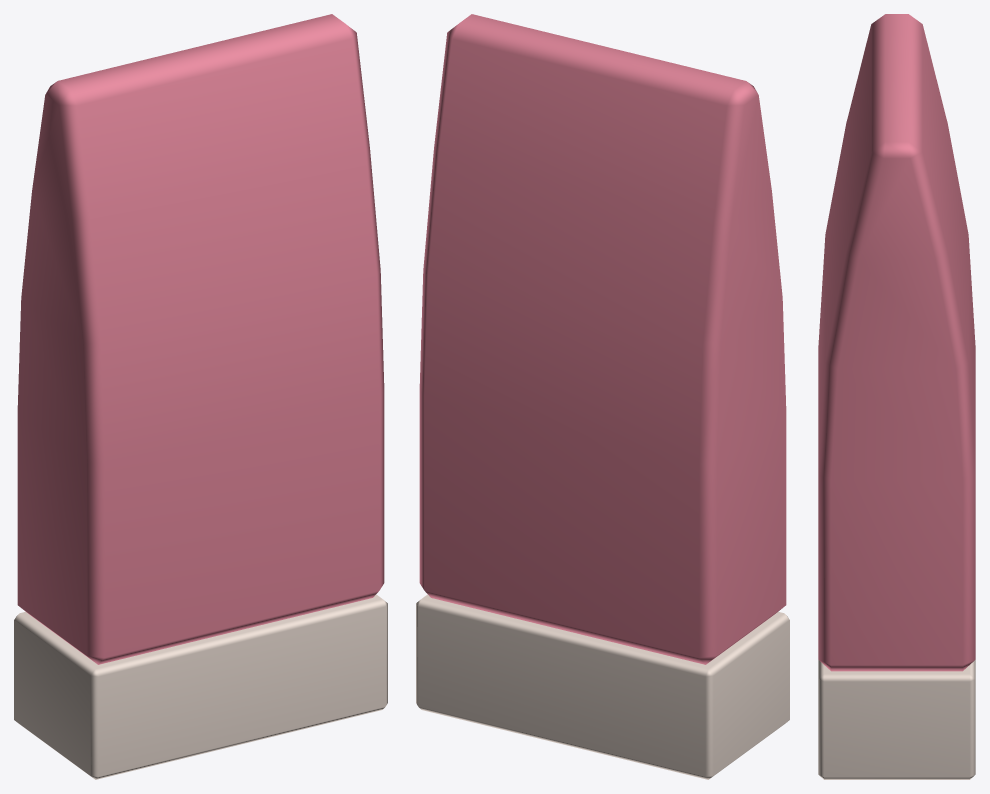
The model's file is Bottle_Cream_2.glb.
3 views of the same model, side by side, from view 1: azimuth 30°, elevation 25°; view 2: azimuth 150°, elevation 25°; view 3: azimuth 270°, elevation 25° (orthographic). The views are drawn at different scales.
Parts seen in each view (by area): view 1: Bottle_Cream_2; view 2: Bottle_Cream_2; view 3: Bottle_Cream_2.
Boxes of the visible parts, x1=… form: Bottle_Cream_2: x1=14, y1=14, x2=387, y2=779; Bottle_Cream_2: x1=416, y1=14, x2=789, y2=779; Bottle_Cream_2: x1=818, y1=14, x2=975, y2=779.
Size of the model in its own units: 0.0915 by 0.1953 by 0.0438.
Materials: 1 (1 with a texture image).
